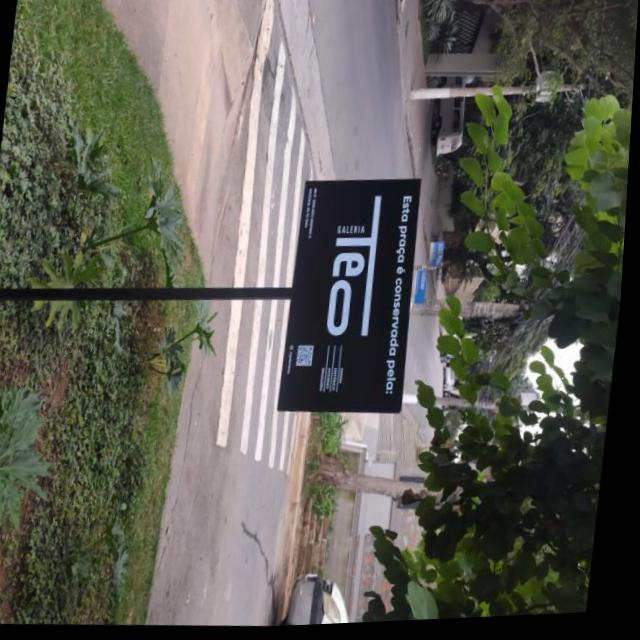qrcode: (301, 350, 317, 370)
